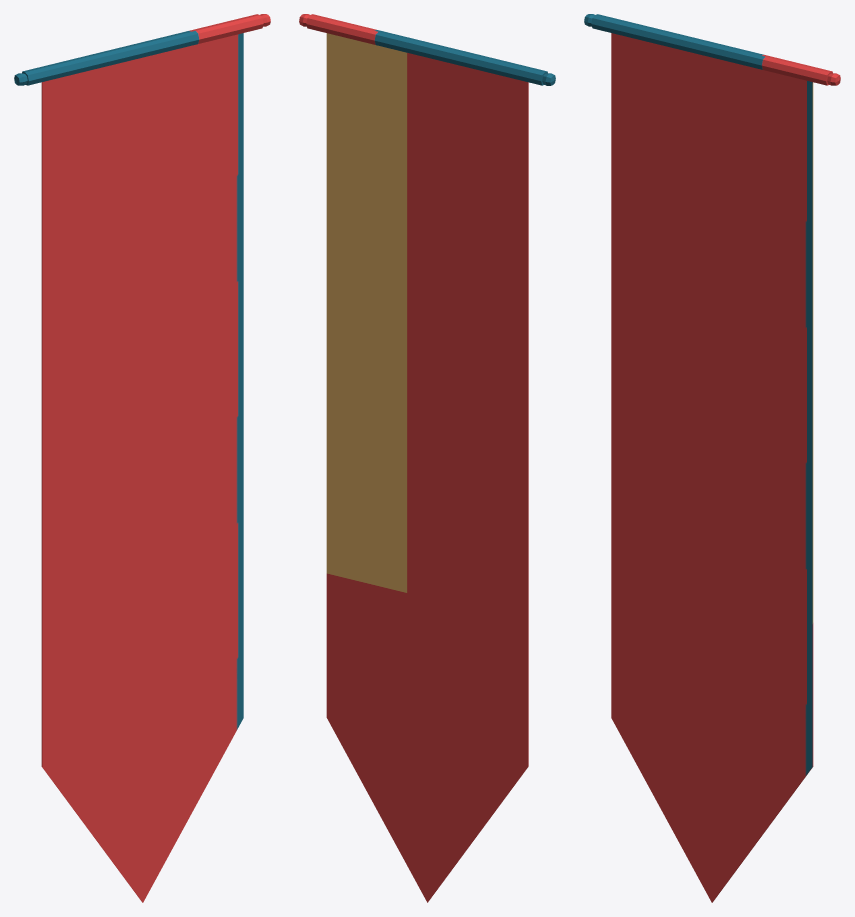
File: Banner_long.fbx
3 views of the same model, side by side, from view 1: azimuth 30°, elevation 25°; view 2: azimuth 150°, elevation 25°; view 3: azimuth 330°, elevation 25° (orthographic).
Parts seen in each view (by area): view 1: Cube; view 2: Cube; view 3: Cube.
Part boxes in pixels (x1,y1,x2,y2): Cube: (14, 14, 270, 902); Cube: (299, 14, 555, 902); Cube: (584, 14, 840, 902).
Size of the model in its own units: 393 by 1275 by 19.96.
